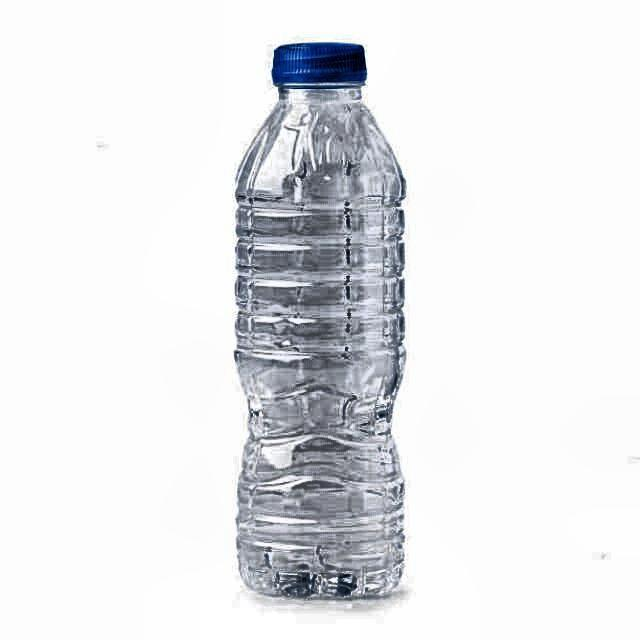plastic: (231, 43, 408, 602)
